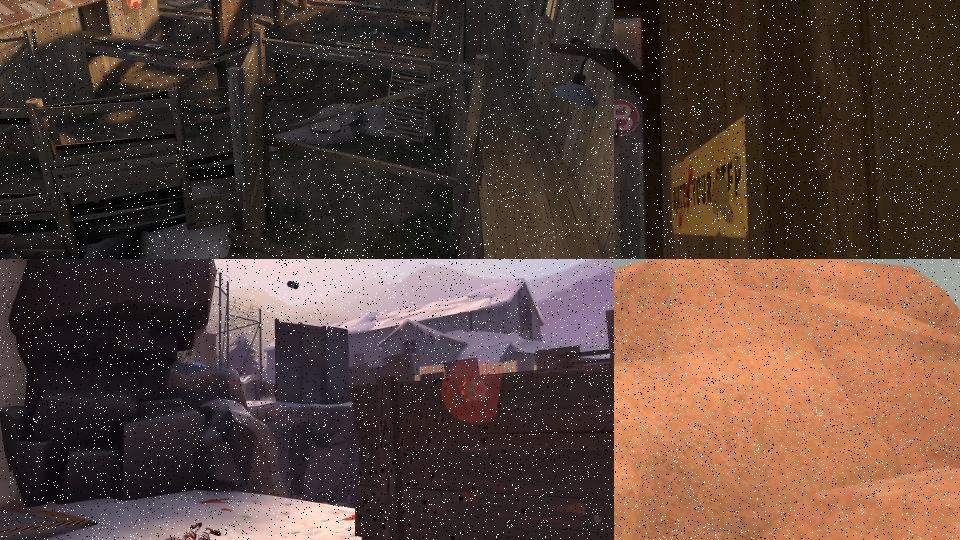Enemy: (135, 522, 220, 540)
